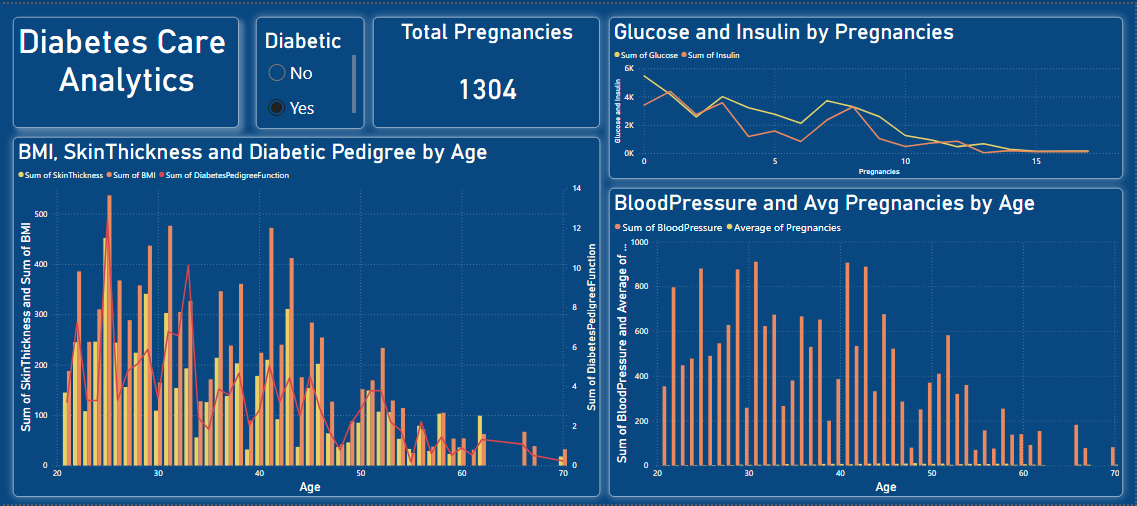

The dashboard page shown, as its layout file describes it:
{"tool":"powerbi","page":{"name":"Overview","canvas":[2200,970],"ordinal":9},"visuals":[{"type":"slicer","title":"Diabetic","fields":{"Values":["diabetes.Outcome"]},"box":[496.6,25.2,209.5,217.3],"z":0},{"type":"lineClusteredColumnComboChart","title":"BMI, SkinThickness and Diabetic Pedigree by Age","fields":{"Category":["diabetes.Age"],"Y":["Sum(diabetes.SkinThickness)","Sum(diabetes.BMI)"],"Y2":["Sum(diabetes.DiabetesPedigreeFunction)"]},"box":[25.2,258,1138.8,698.4],"z":1000},{"type":"columnChart","title":"BloodPressure and Avg Pregnancies by Age","fields":{"Category":["diabetes.Age"],"Y":["Sum(diabetes.BloodPressure)","Avg(diabetes.Pregnancies)"]},"box":[1181.5,380.5,997.2,576.6],"z":2000},{"type":"lineChart","title":"Glucose and Insulin by Pregnancies","fields":{"Category":["diabetes.Pregnancies"],"Y":["Sum(diabetes.Glucose)","Sum(diabetes.Insulin)"]},"box":[1181.5,26,997.2,333.2],"z":3000},{"type":"card","title":"Total Pregnancies","fields":{"Values":["Sum(diabetes.Pregnancies)"]},"box":[723.6,25.2,440.4,215.3],"z":4000},{"type":"textbox","box":[25.2,25.2,438.4,215.3],"z":5000}]}

Visuals, with their boxes in screenshot pixels (x1, y1, x2, y2), scaled from the page's 2200x970 canvas onto the 1137x506 screenshot:
"Diabetic" slicer: region(257, 13, 365, 127)
"BMI, SkinThickness and Diabetic Pedigree by Age" lineClusteredColumnComboChart: region(13, 135, 602, 499)
"BloodPressure and Avg Pregnancies by Age" columnChart: region(611, 198, 1126, 499)
"Glucose and Insulin by Pregnancies" lineChart: region(611, 14, 1126, 187)
"Total Pregnancies" card: region(374, 13, 602, 125)
textbox: region(13, 13, 240, 125)
